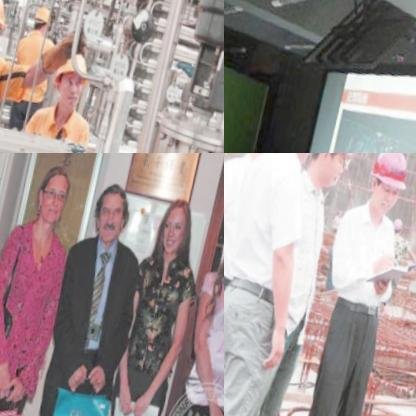head: (88, 174, 135, 240), (154, 187, 197, 254), (32, 157, 76, 222)
helmet: (359, 153, 416, 222), (50, 40, 97, 116), (299, 153, 371, 200), (32, 0, 57, 36)
